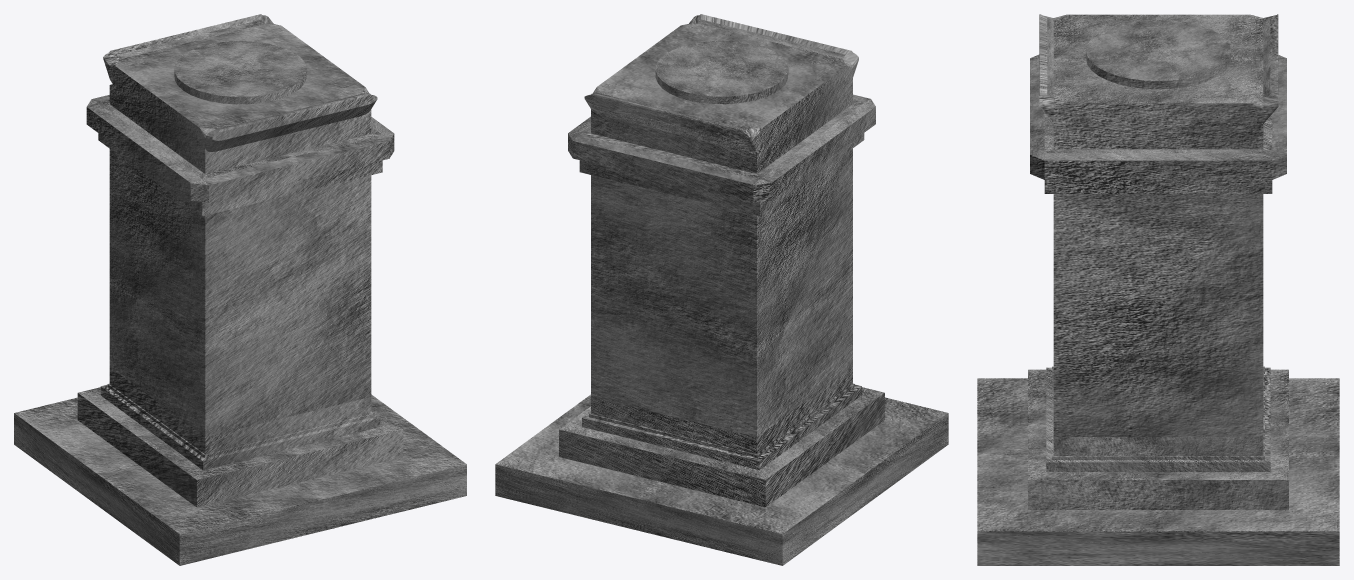
The model's file is altar.fbx.
3 views of the same model, side by side, from view 1: azimuth 30°, elevation 25°; view 2: azimuth 150°, elevation 25°; view 3: azimuth 270°, elevation 25° (orthographic). The views are drawn at different scales.
Visible parts, largest first — view 1: Altar; view 2: Altar; view 3: Altar.
Part boxes in pixels (box(x1,y1,x2,y2)): Altar: box(14, 14, 466, 565); Altar: box(495, 14, 948, 565); Altar: box(977, 14, 1339, 565).
Size of the model in its own units: 200 by 267 by 200.
